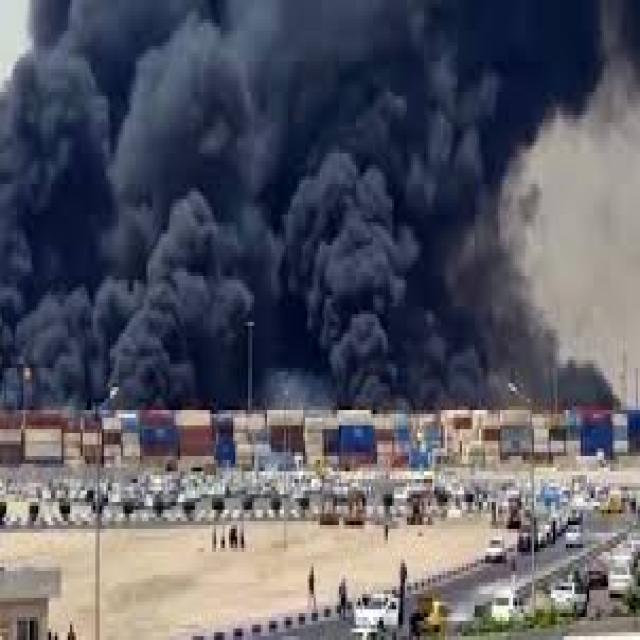explosion: (0, 0, 623, 452)
